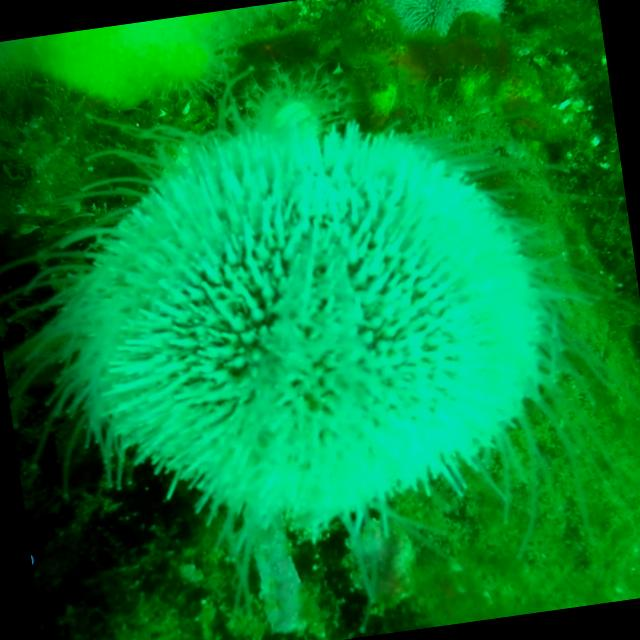Deniz Kestanesi: (0, 28, 640, 636), (373, 0, 513, 51)
